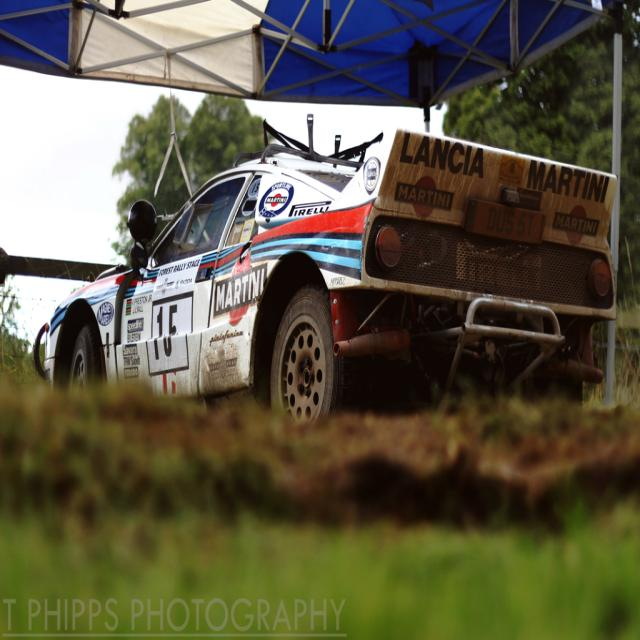car: (22, 115, 631, 435)
